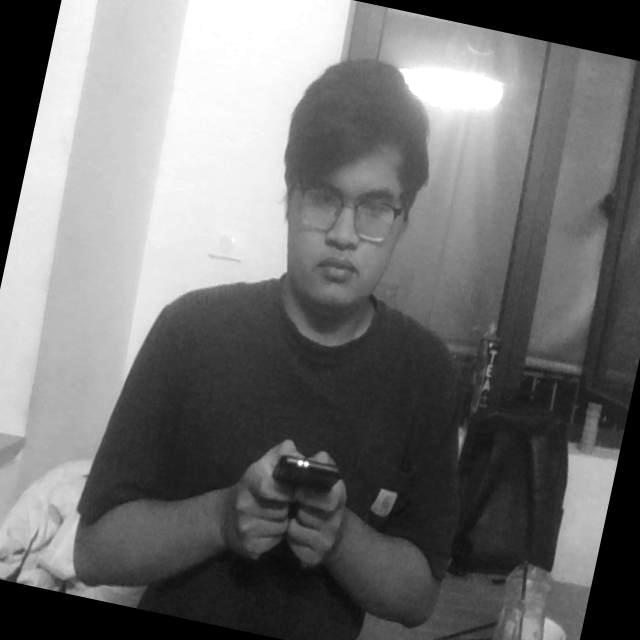phone: (259, 430, 356, 520)
